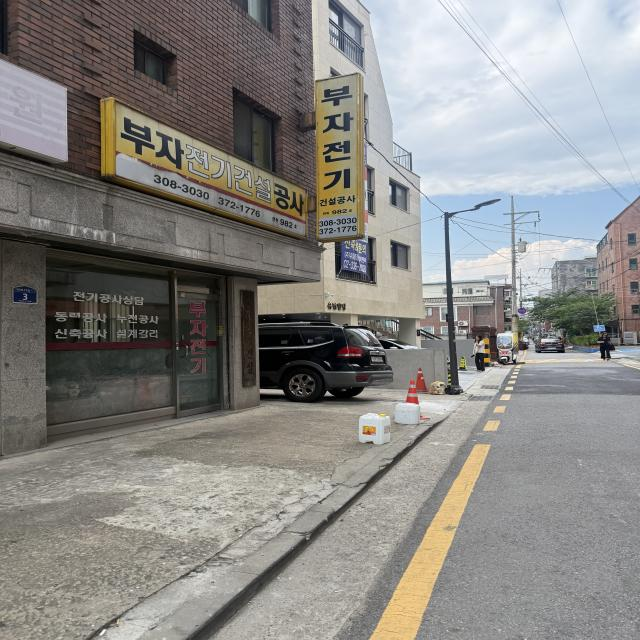car: (164, 304, 405, 416)
